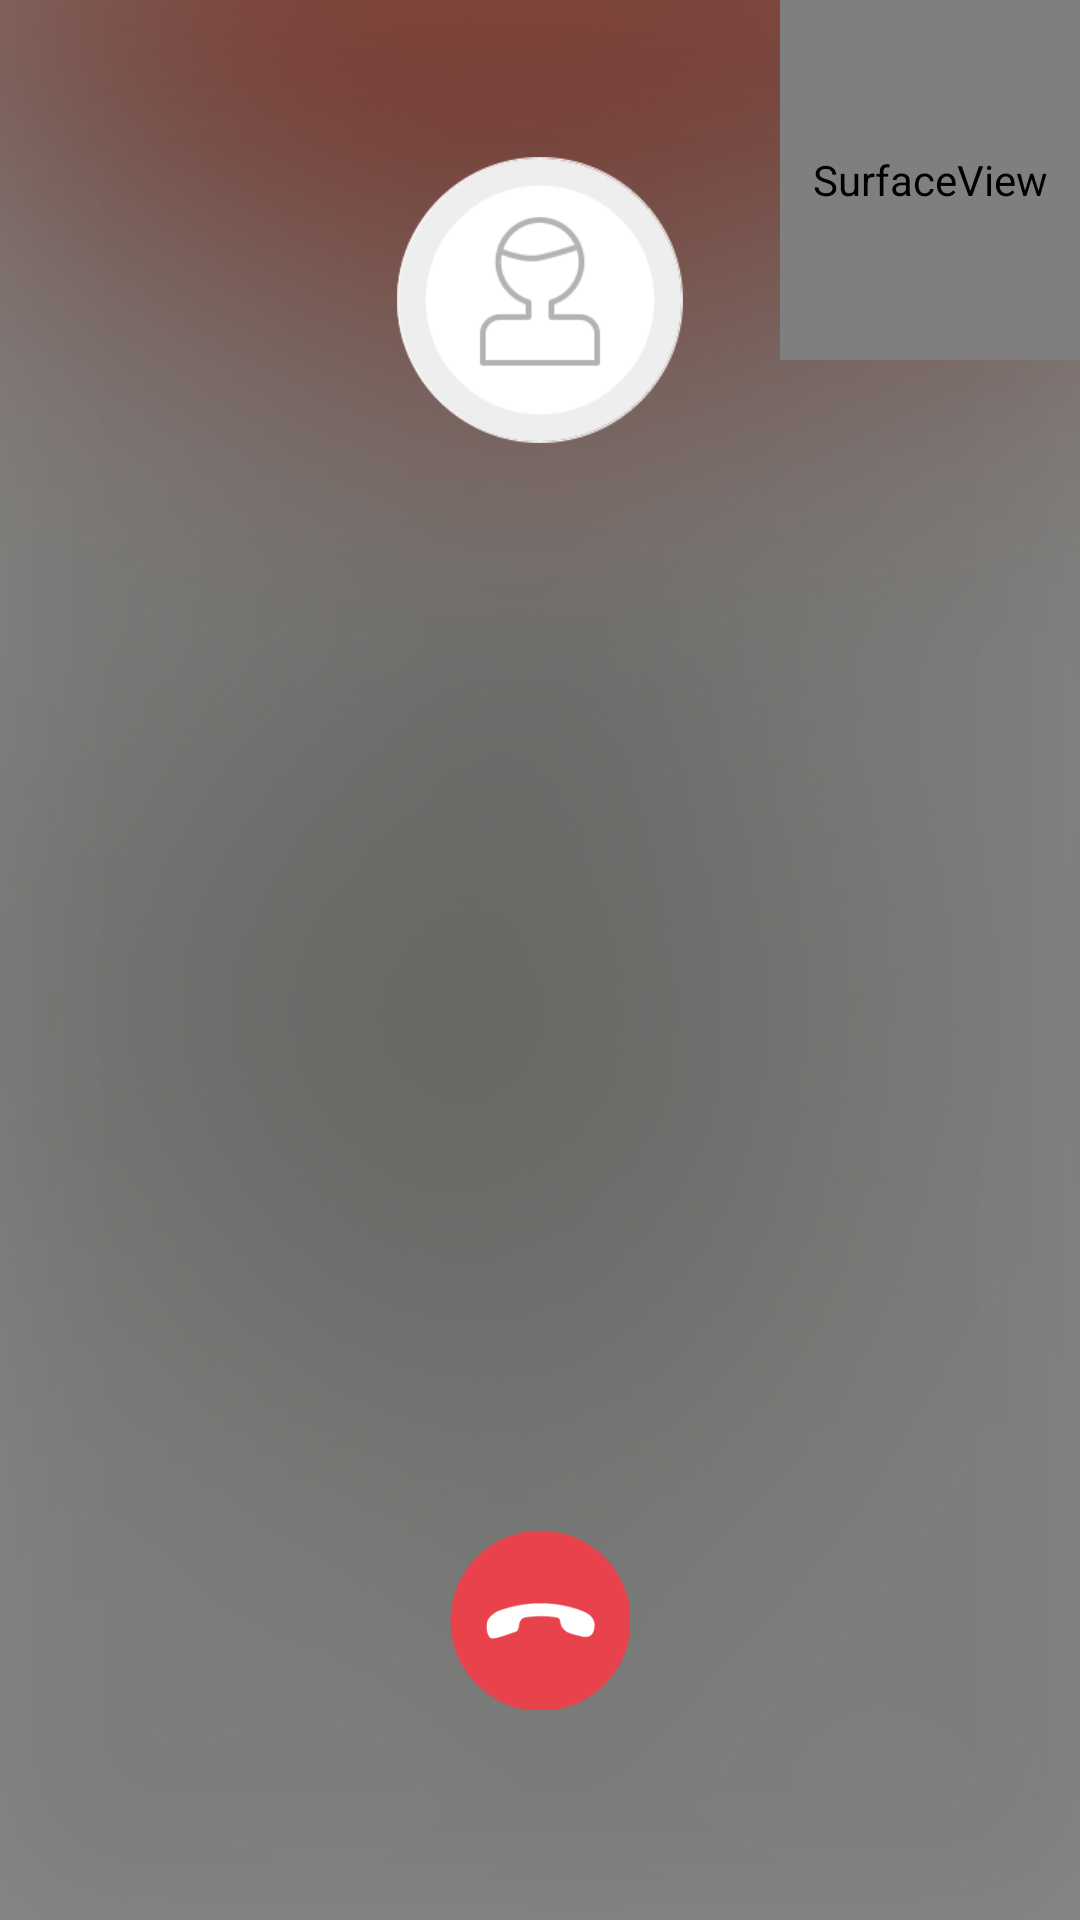

Named icons in this screenshot (1080w x 1920h) and their centers, point (x, y):
chat photo: point (540, 296)
ring handup: point (540, 1620)
